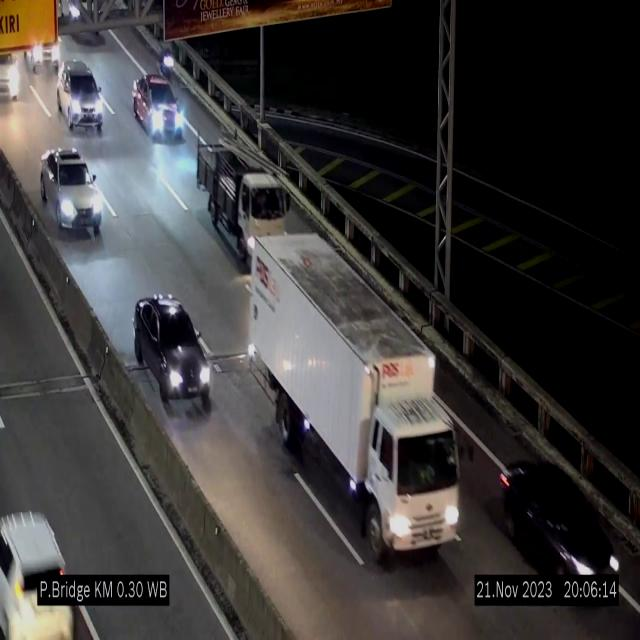Car: (500, 460, 618, 577), (0, 480, 84, 640), (134, 292, 211, 413), (36, 146, 103, 242), (132, 76, 184, 153), (54, 60, 102, 138), (0, 43, 22, 104)
Motorcycle: (160, 42, 174, 91)
Truck: (248, 227, 458, 558), (198, 143, 290, 273)
